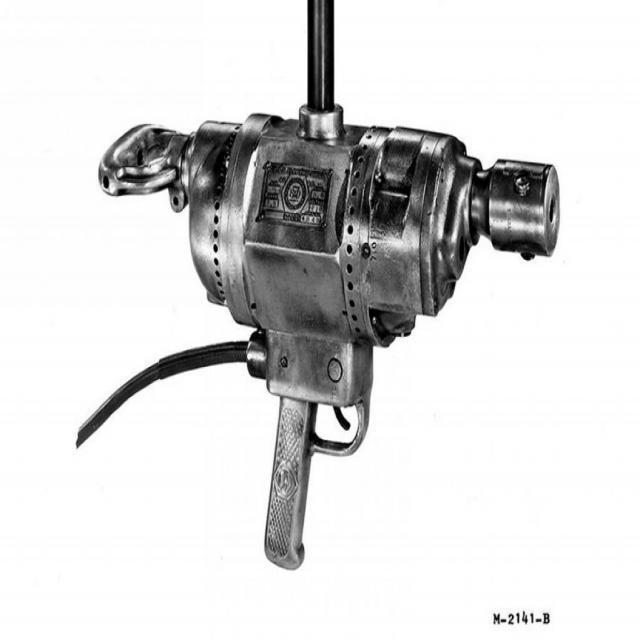drill: (97, 106, 562, 572)
